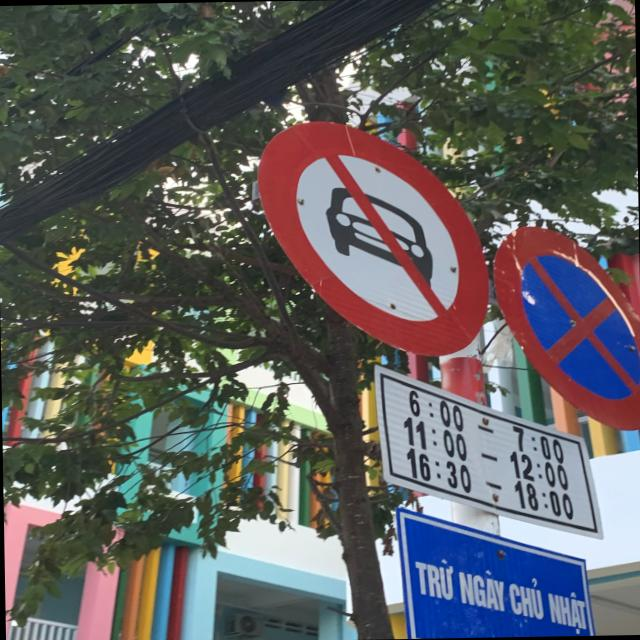Cam_Dung_Va_Dau_Xe: (494, 214, 640, 434)
Cam_O_To: (258, 114, 494, 360)
